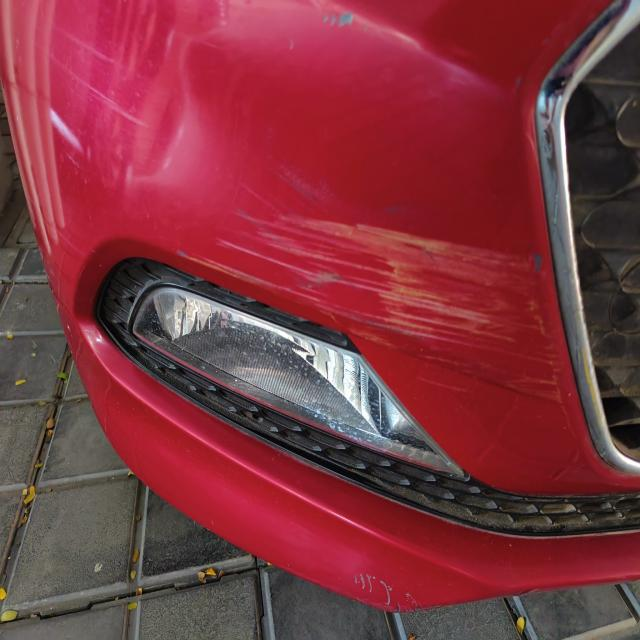scratch: (185, 169, 574, 411), (21, 8, 186, 158), (311, 5, 366, 37), (353, 571, 393, 601)
